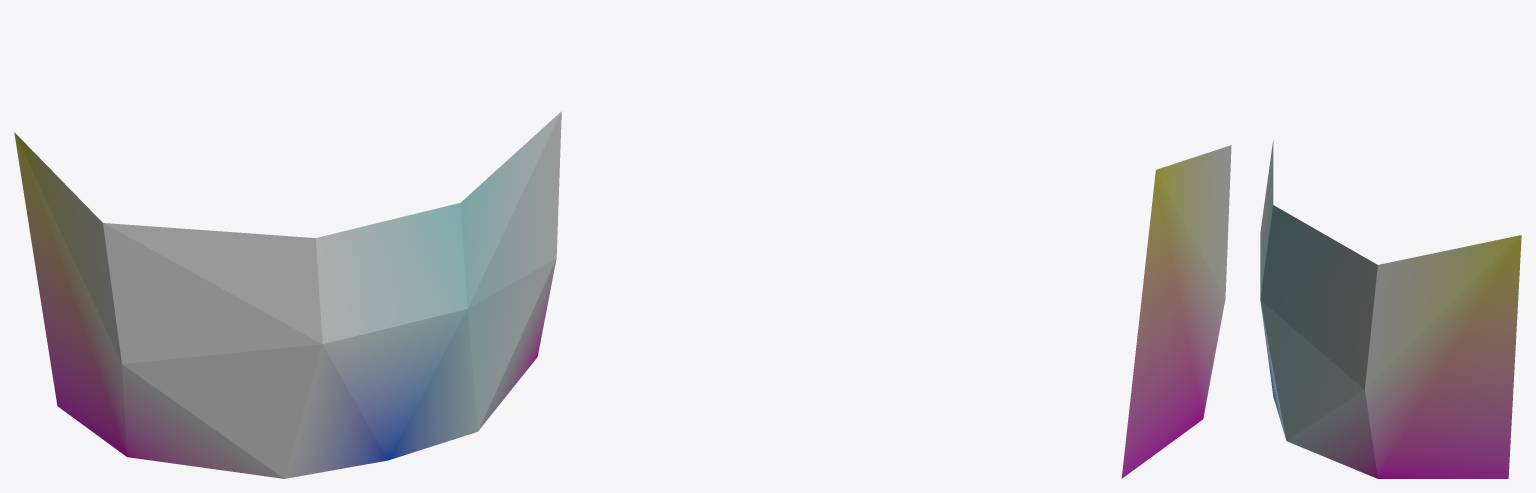
3 views of the same model, side by side, from view 1: azimuth 30°, elevation 25°; view 2: azimuth 150°, elevation 25°; view 3: azimuth 270°, elevation 25° (orthographic). The views are drawn at different scales.
Parts seen in each view (by area): view 1: model_111E; view 2: model_111E; view 3: model_111E.
Part boxes in pixels (x1=…): model_111E: x1=14, y1=111, x2=561, y2=478; model_111E: x1=1121, y1=145, x2=1231, y2=478; model_111E: x1=1260, y1=140, x2=1521, y2=478.
Bounding box in the file's own units: 40 × 23 × 20.
